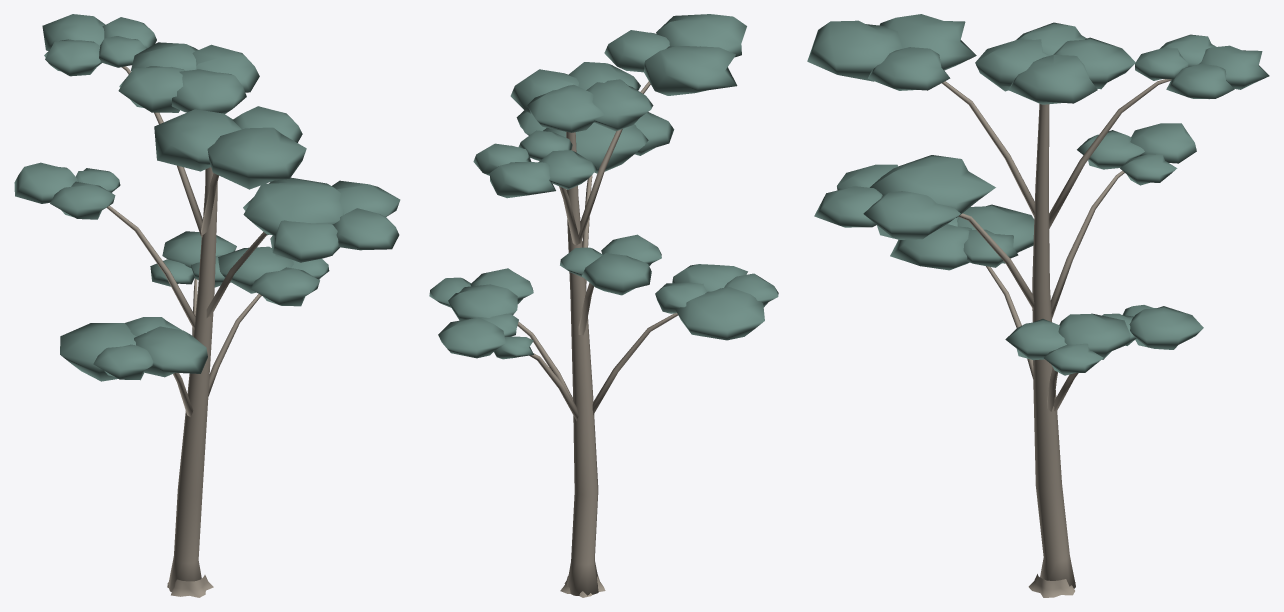
Rendered from alpine-and-arctic-biomes-swiss-stone-pine-fa7a10f2__20932.glb.
3 views of the same model, side by side, from view 1: azimuth 30°, elevation 25°; view 2: azimuth 150°, elevation 25°; view 3: azimuth 270°, elevation 25° (orthographic). The views are drawn at different scales.
Visible parts, largest first — view 1: swiss-stone-pine; view 2: swiss-stone-pine; view 3: swiss-stone-pine.
Part boxes in pixels (x1=…): swiss-stone-pine: x1=14, y1=14, x2=400, y2=597; swiss-stone-pine: x1=429, y1=14, x2=778, y2=597; swiss-stone-pine: x1=807, y1=14, x2=1269, y2=597.
Bounding box in the file's own units: 5.18 × 8.61 × 6.63.
